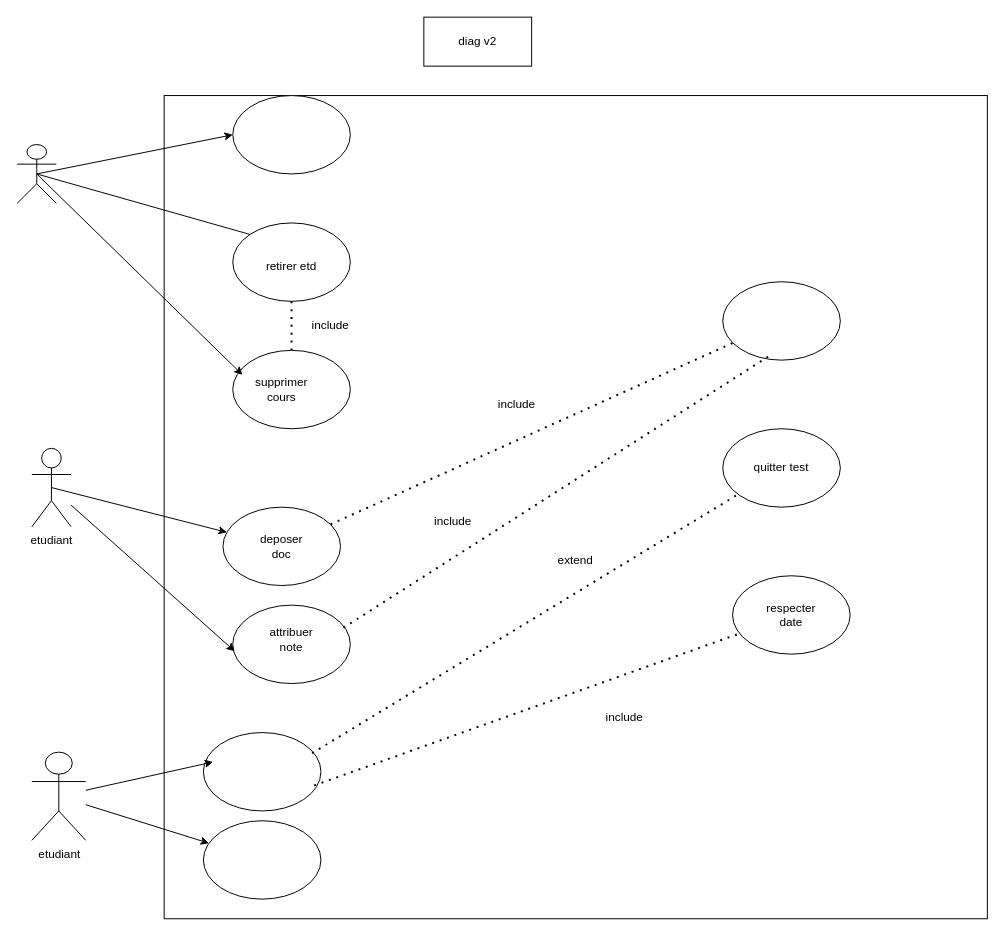
Image size: 1005x936. Some labels were removed from this diagram. Here are the shapes that lost their labels. From the top down, the centre of each, then its label:
point (291, 134): inserer etd
point (36, 173): admin
point (781, 320): s'identifier
point (261, 771): passer test
point (261, 859): deposer test
